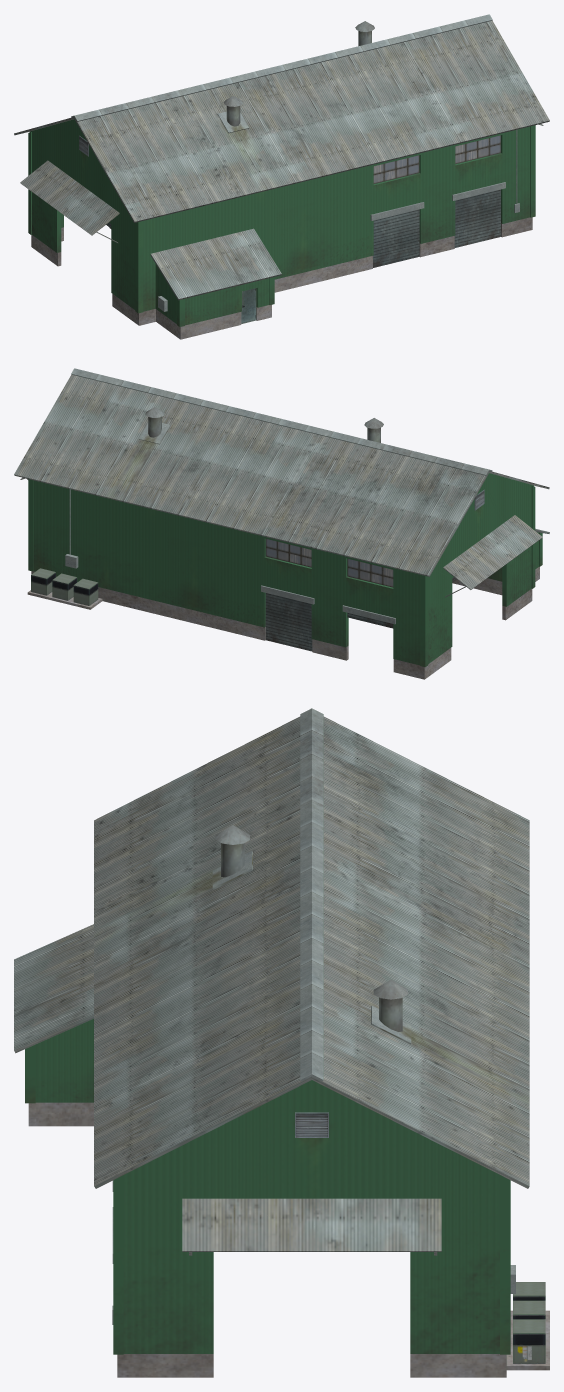
File: inspection_barn.glb
The picture shows the model from 3 angles, top to bottom: view 1: azimuth 30°, elevation 25°; view 2: azimuth 150°, elevation 25°; view 3: azimuth 270°, elevation 25°; orthographic projection. The views are drawn at different scales.
Visible parts, largest first — view 1: G-__556347; view 2: G-__556347; view 3: G-__556347.
Part boxes in pixels (x1=…): G-__556347: x1=14, y1=14, x2=549, y2=339; G-__556347: x1=14, y1=368, x2=549, y2=679; G-__556347: x1=14, y1=708, x2=549, y2=1377.
Size of the model in its own units: 28.71 by 10.68 by 16.35.
1 material, 1 textured.
